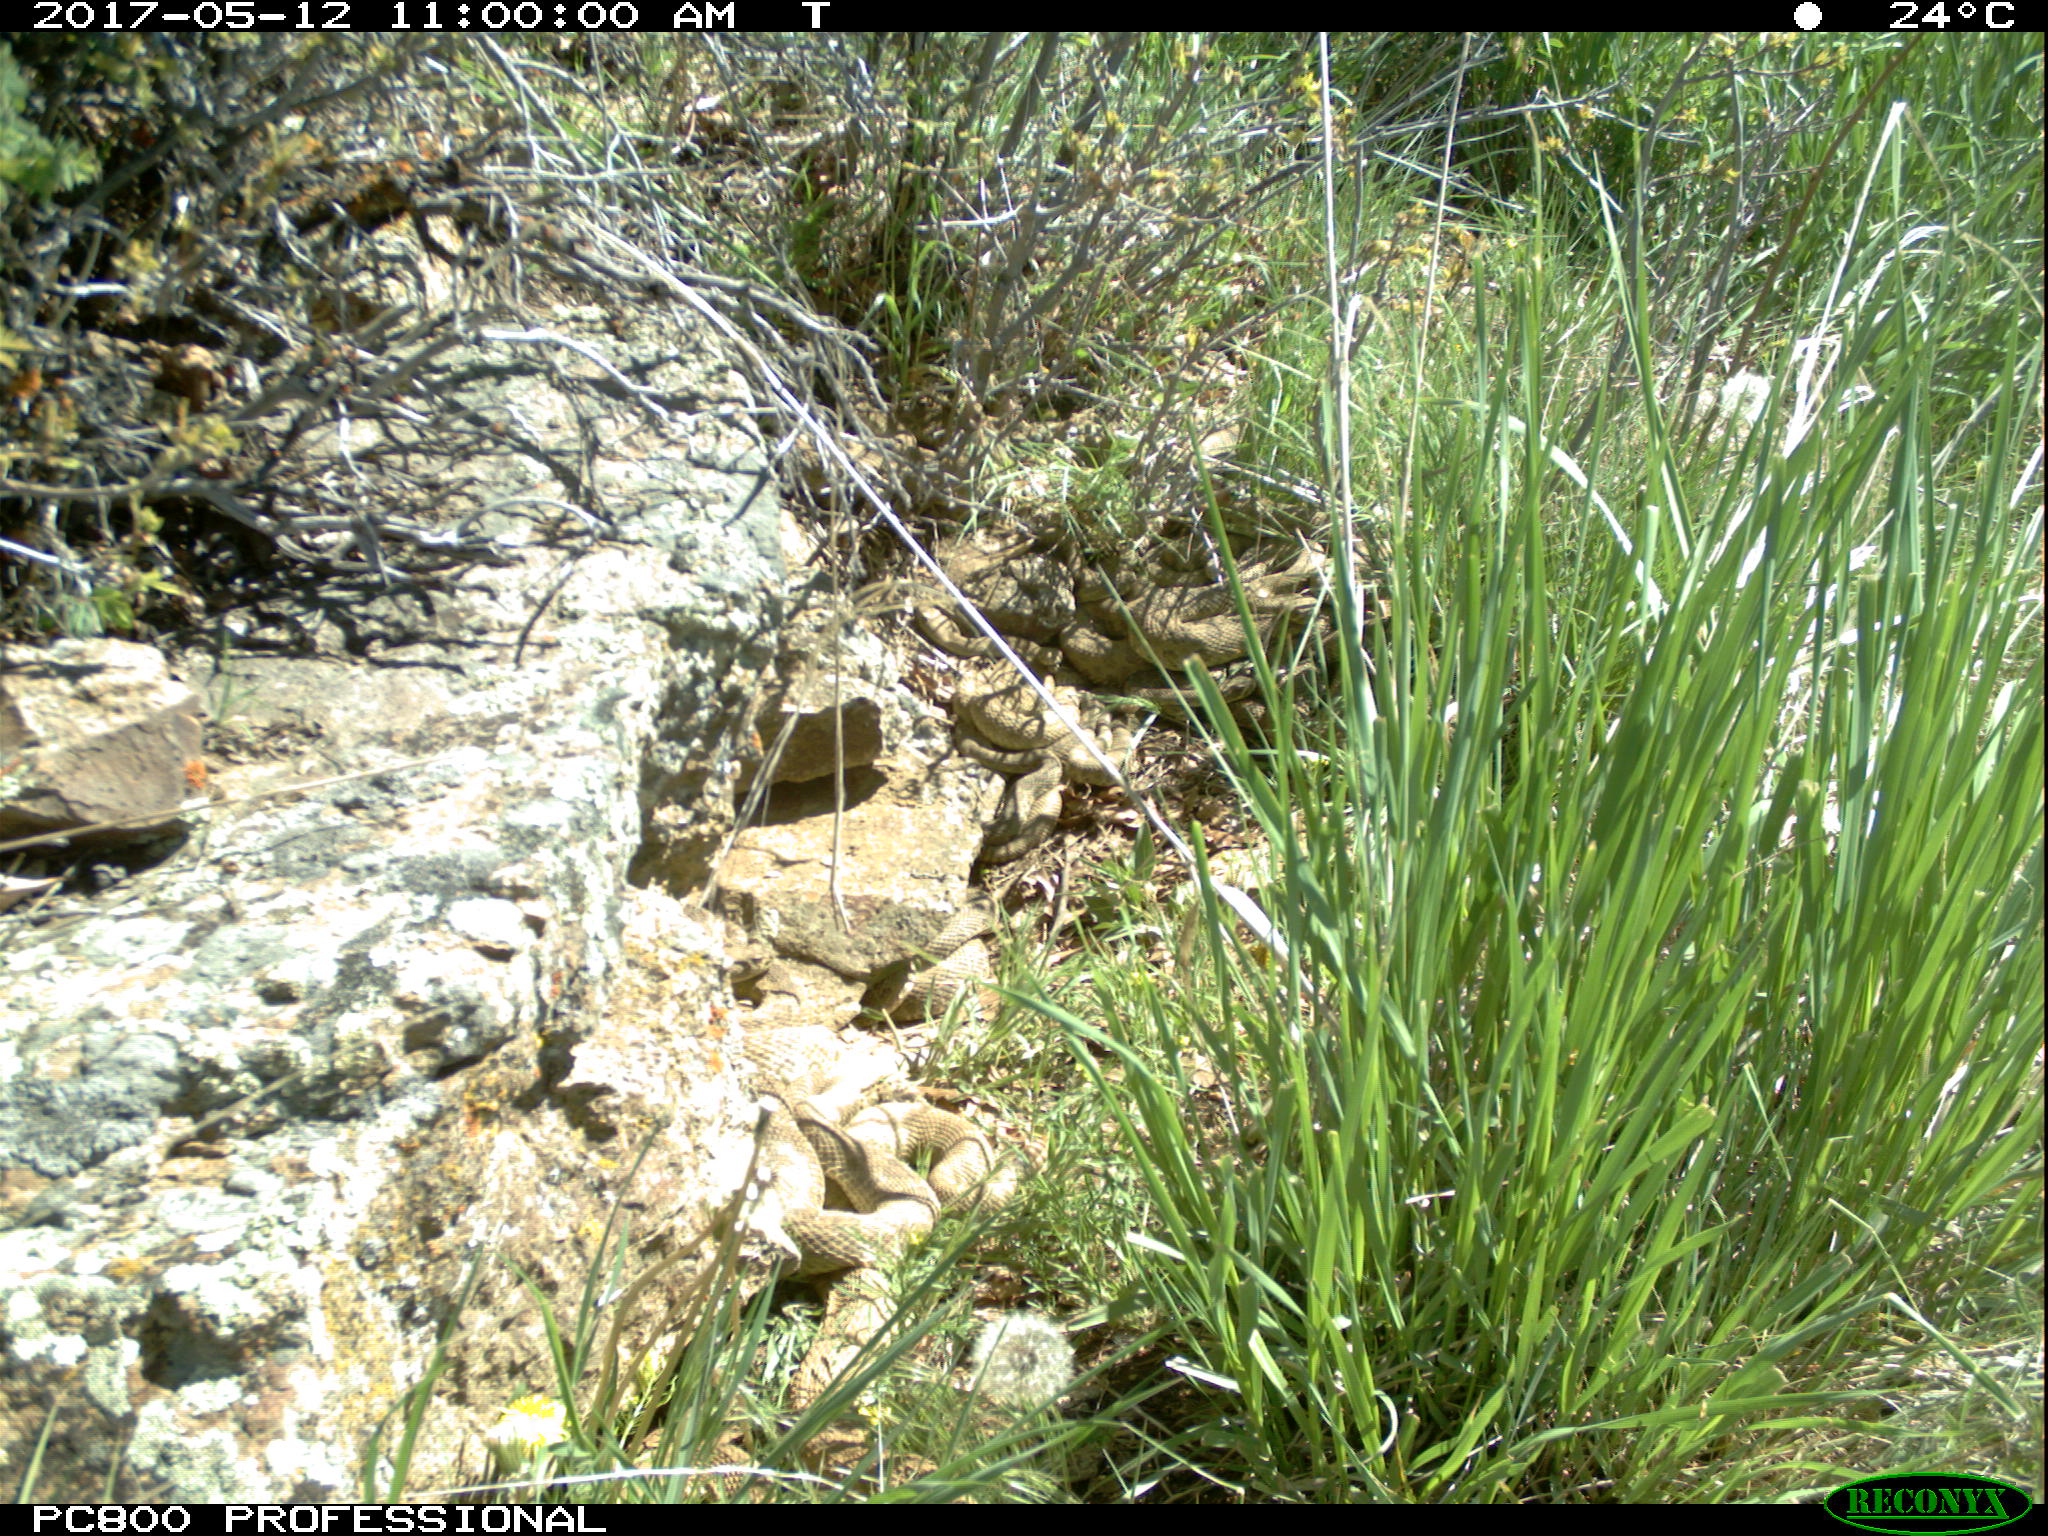snake: (743, 1084, 1013, 1258), (797, 1167, 905, 1442), (950, 668, 1137, 794), (1047, 586, 1301, 676), (895, 905, 1006, 1016), (1001, 733, 1085, 844), (1232, 531, 1326, 626)
